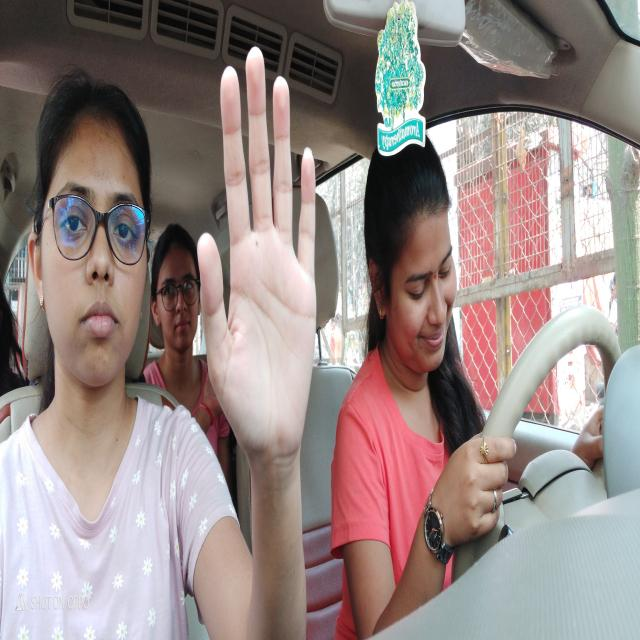drowsy: (361, 144, 461, 380)
person: (29, 67, 164, 410), (151, 218, 198, 367)
